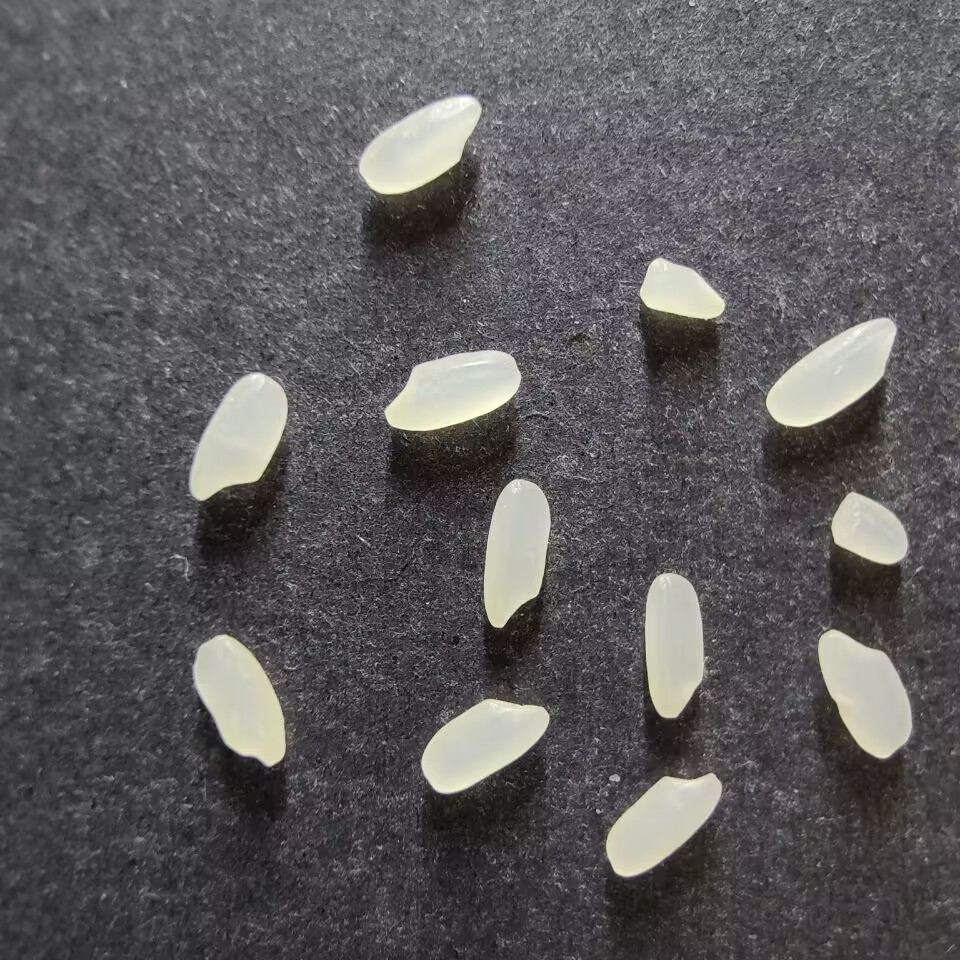broken: (830, 491, 909, 566), (638, 256, 725, 321)
rice: (765, 316, 897, 428), (188, 372, 288, 501), (604, 772, 723, 878), (192, 634, 286, 768), (420, 697, 549, 794), (358, 95, 482, 195), (817, 629, 911, 759), (383, 349, 521, 432), (482, 477, 551, 628), (643, 572, 705, 719)
